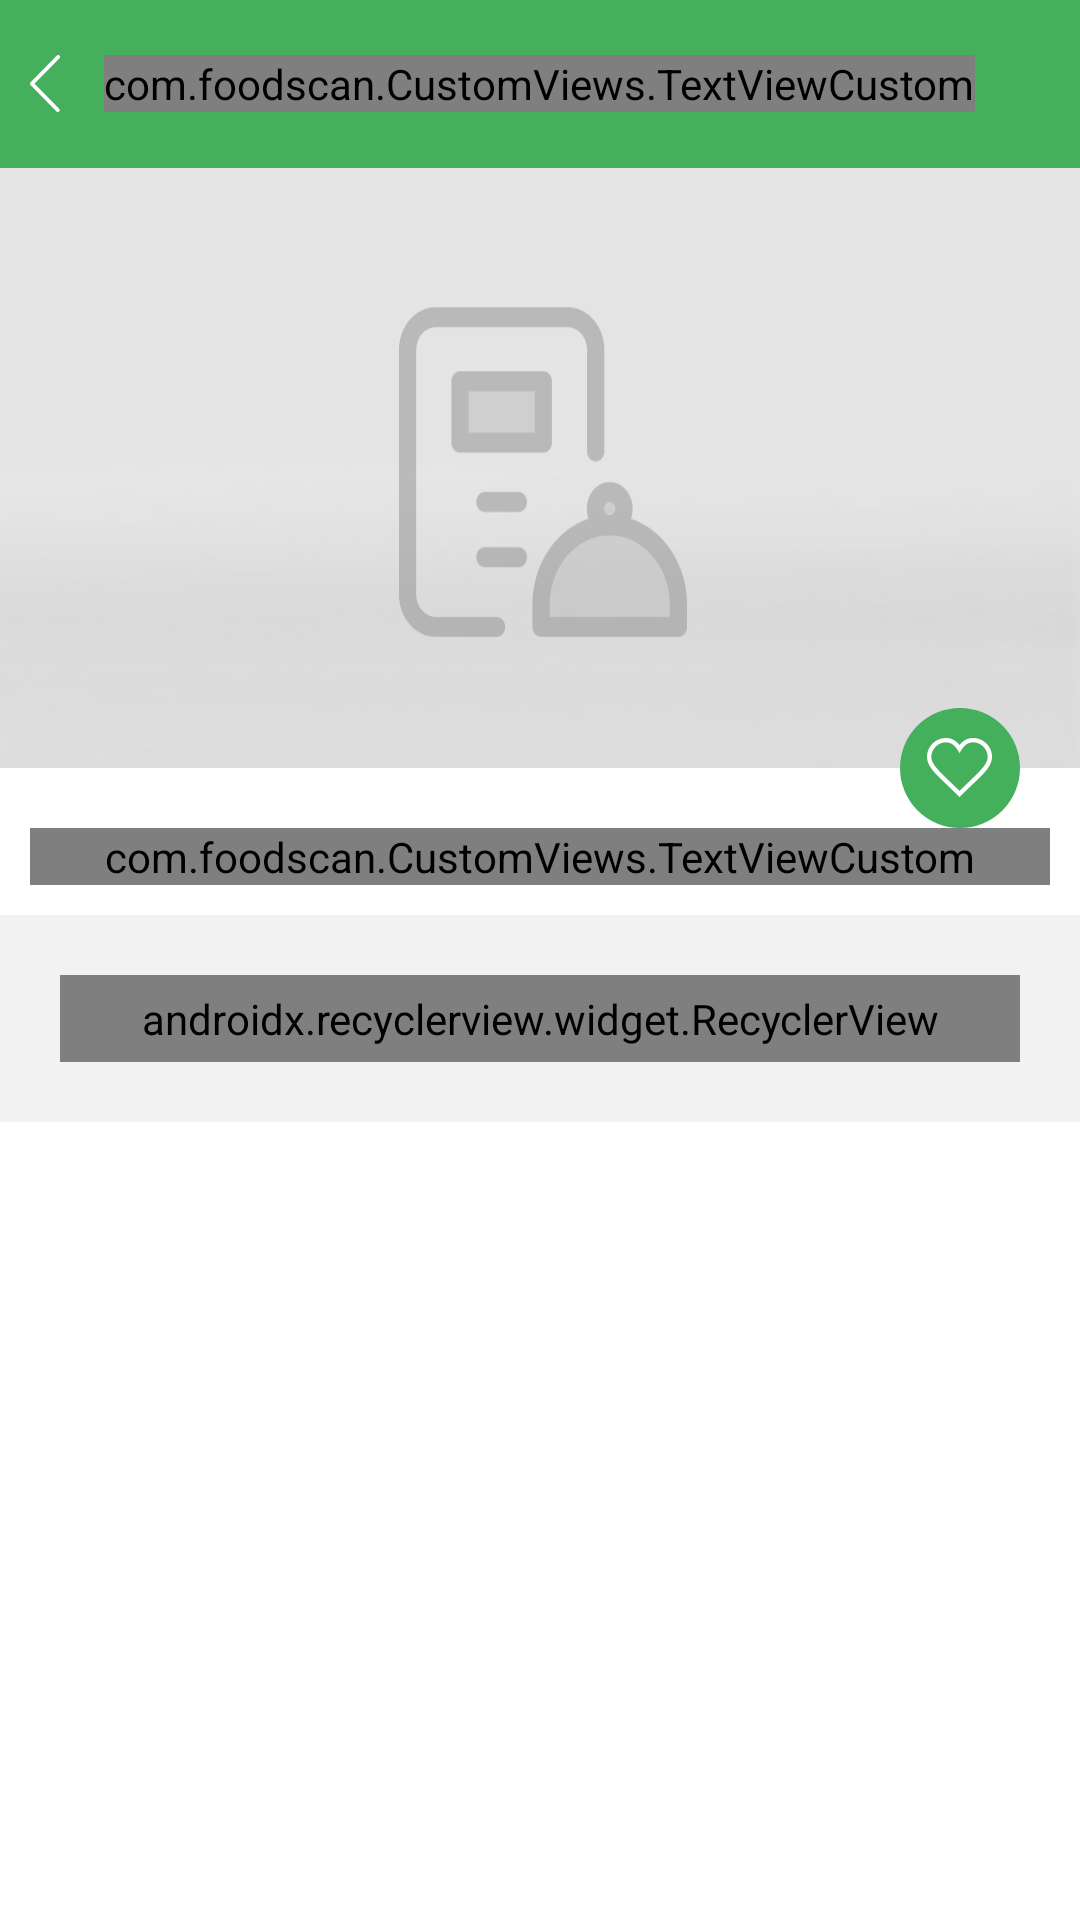

Icons on this 1080x1920 Android screen, each with the point to tap as (x=x, y=y):
back: (x=45, y=83)
fav stroke: (x=959, y=767)
